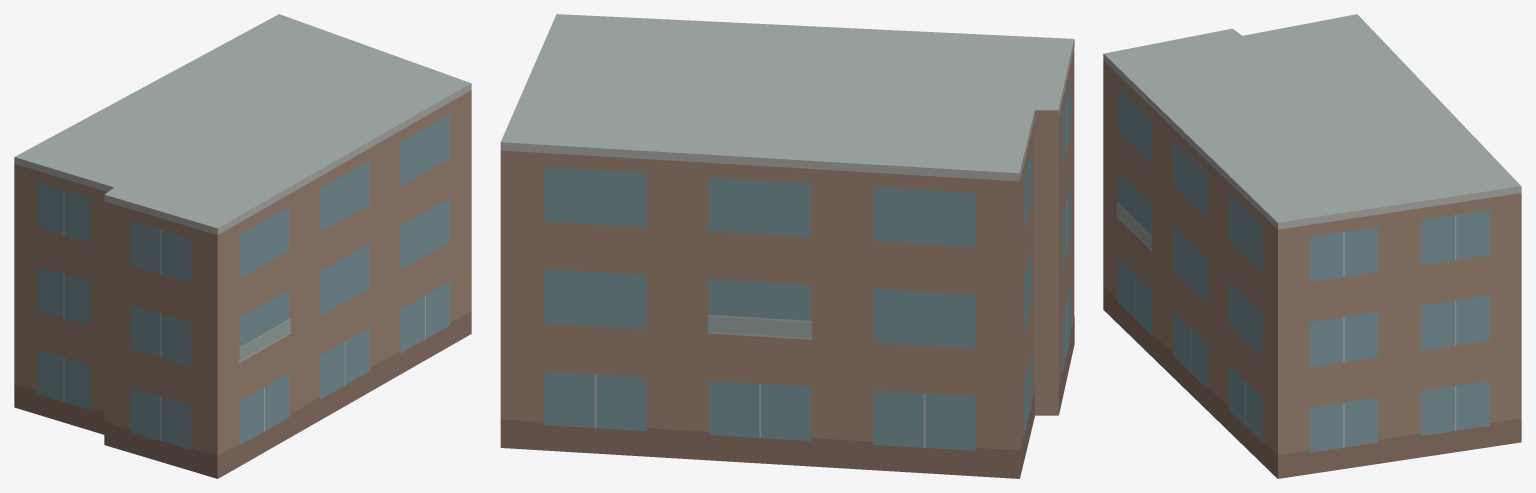
File: survey-upis-32661135.glb
The picture shows the model from 3 angles, left to right: view 1: azimuth 30°, elevation 25°; view 2: azimuth 150°, elevation 25°; view 3: azimuth 270°, elevation 25°; orthographic projection. The views are drawn at different scales.
Parts seen in each view (by area): view 1: survey-upis-32661135.tmp; view 2: survey-upis-32661135.tmp; view 3: survey-upis-32661135.tmp.
Part boxes in pixels (x1,y1,x2,y2): survey-upis-32661135.tmp: [14, 14, 471, 478]; survey-upis-32661135.tmp: [500, 14, 1074, 478]; survey-upis-32661135.tmp: [1103, 14, 1521, 478].
Size of the model in its own units: 16.01 by 9.15 by 13.55.
